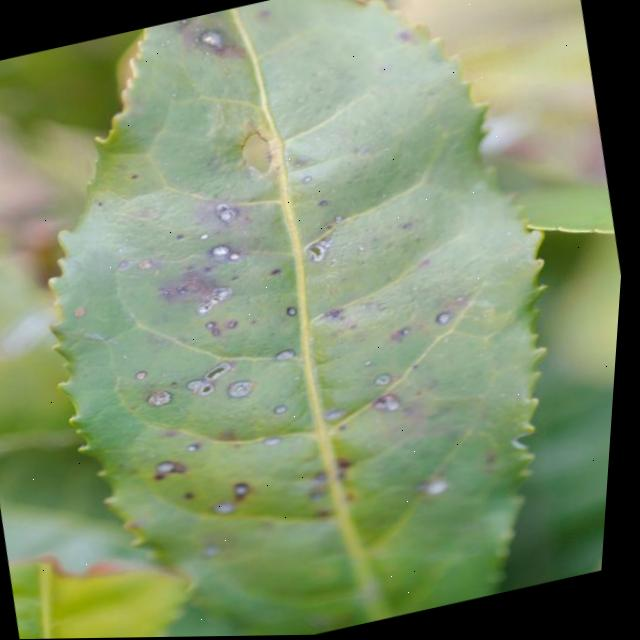Tea red scab: (175, 359, 265, 419), (401, 455, 474, 518), (200, 183, 266, 236), (184, 276, 253, 323), (364, 371, 421, 423), (269, 334, 316, 371), (204, 243, 255, 271), (421, 308, 465, 338), (273, 298, 311, 324)
